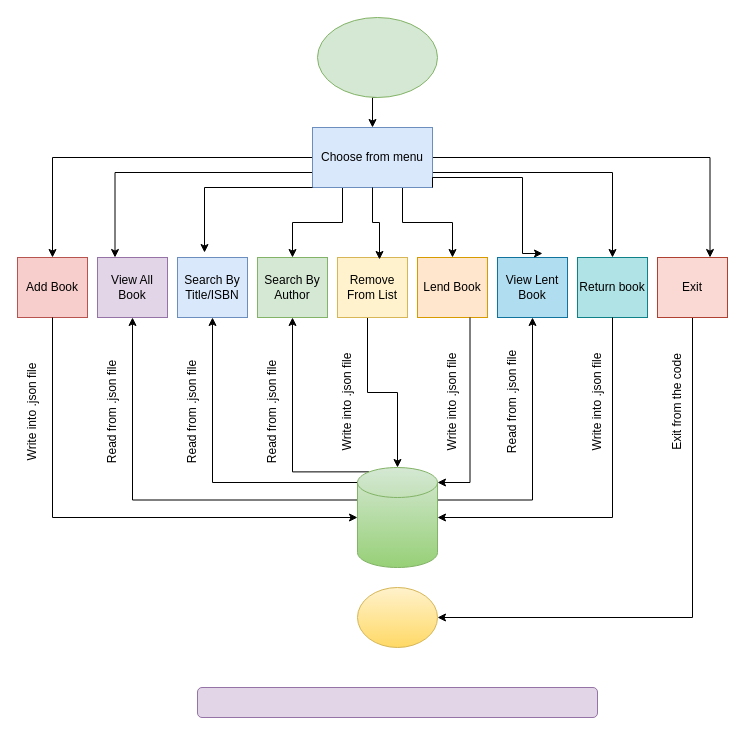
Some shapes in this 745 by 735 pixel diagram are drawn without their labels. The centre of each missing label's shape, as x and y in pixels:
End: the point at 397,617
JSON: the point at 397,517
Simple Architecture of Library management Project: the point at 397,702
Start: the point at 377,57
